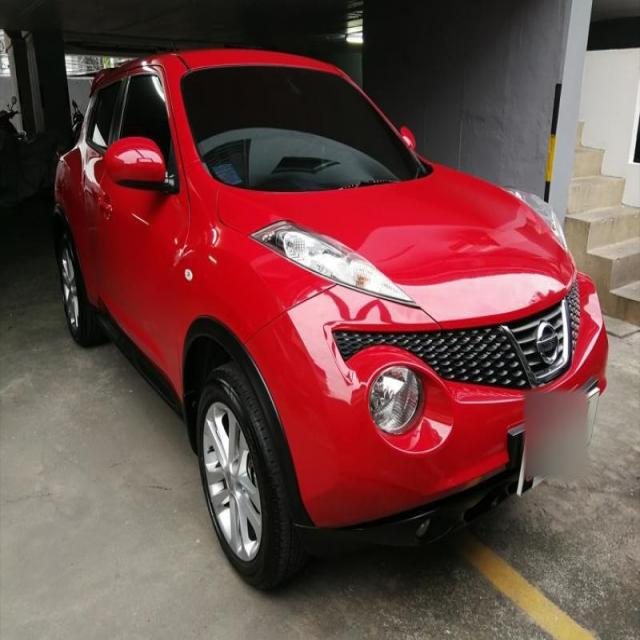back_right_door: (78, 70, 129, 305)
front_bumper: (248, 263, 609, 529)
front_glass: (178, 62, 434, 190)
front_left_light: (516, 190, 576, 260)
front_right_door: (99, 64, 187, 354)
front_right_light: (248, 217, 421, 307)
hood: (220, 164, 578, 330)
right_mirror: (103, 135, 168, 193)
wheel: (198, 363, 315, 596)
